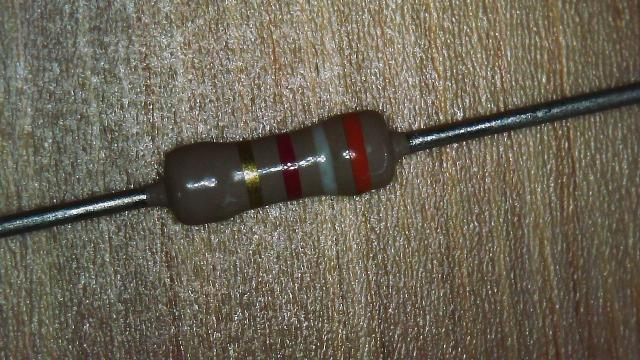gold: (239, 141, 262, 207)
orange: (342, 112, 372, 193)
red: (276, 133, 302, 200)
resistor: (146, 104, 409, 230)
white: (310, 122, 338, 195)
